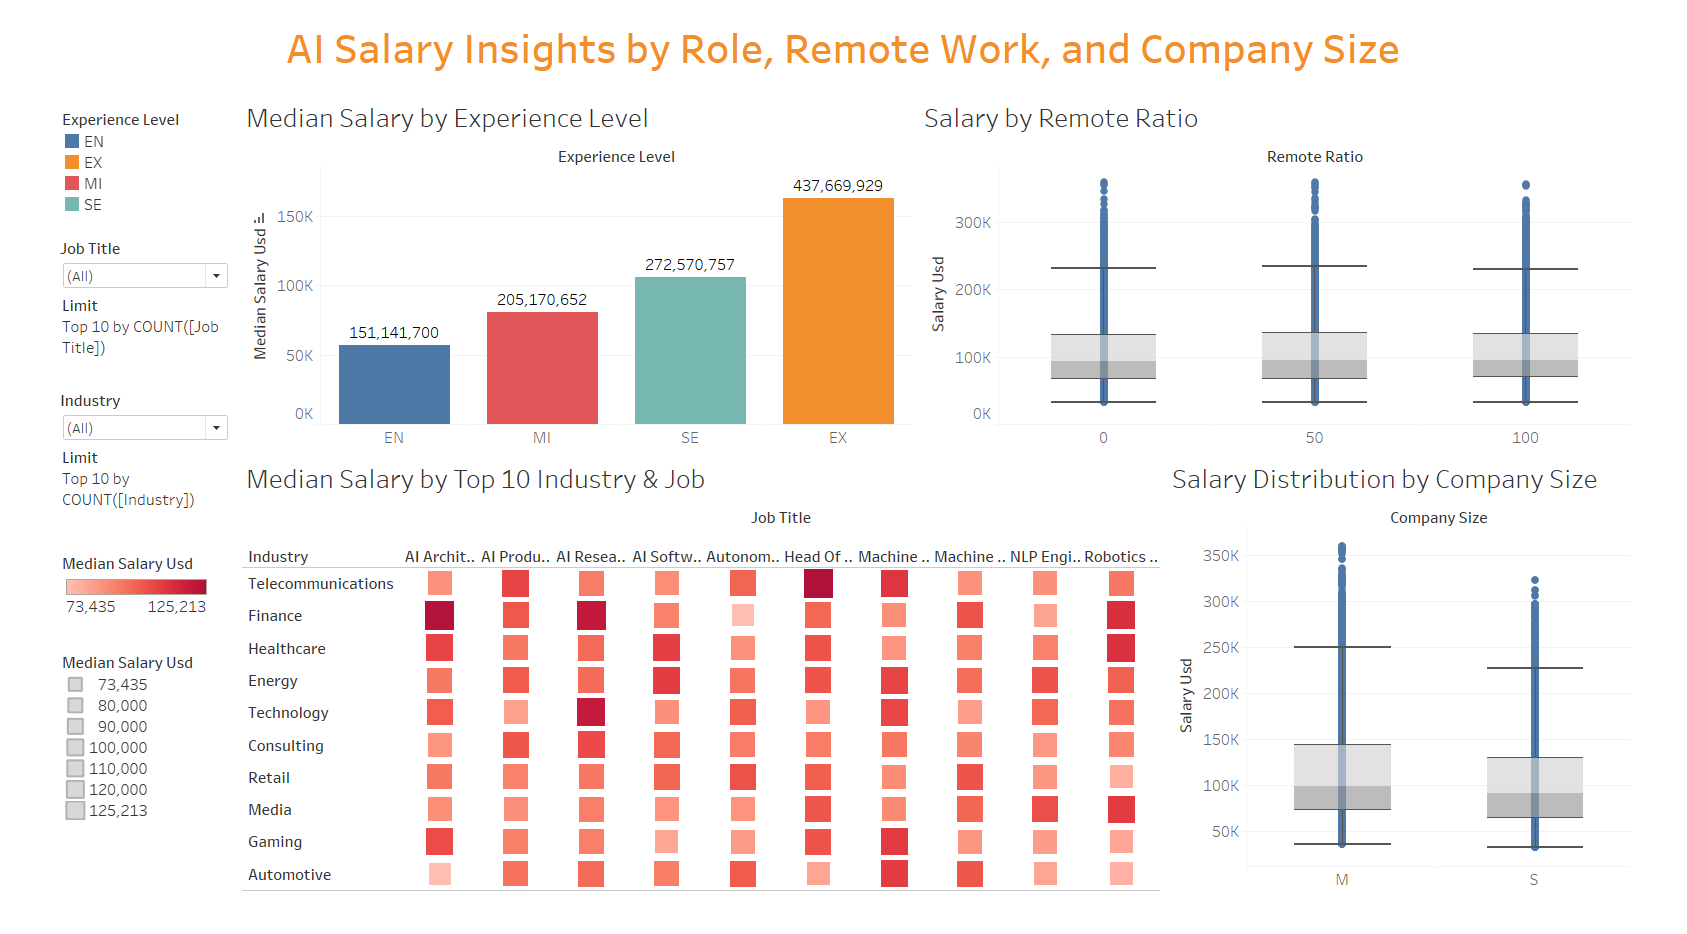

This screenshot's page, from the dashboard's own definition file:
{"tool":"tableau","page":{"name":"Dashboard 2","canvas":[1600,900],"ordinal":1},"visuals":[{"type":"text","box":[8,8,1584,71]},{"type":"worksheet","title":"Median Salary by Experience Level","mark":"Automatic","rows":["salary_usd"],"cols":["experience_level"],"box":[195,89,677.5,361]},{"type":"worksheet","title":"Salary by Remote Ratio","mark":"Circle","rows":["salary_usd"],"cols":["remote_ratio"],"box":[872.5,89,719.5,361]},{"type":"legend","title":"Median Salary by Experience Level","param":"[federated.1hjc3tu0h6lypg139vgvv0k21v48].[none:experience_level:nk]","box":[19.2,106,149.3,106]},{"type":"filter","title":"Median Salary by Top 10 Industry & Job","param":"[federated.1hjc3tu0h6lypg139vgvv0k21v48].[none:job_title:nk]","box":[17.1,235,170.7,124]},{"type":"filter","title":"Median Salary by Top 10 Industry & Job","param":"[federated.1hjc3tu0h6lypg139vgvv0k21v48].[none:industry:nk]","box":[17.1,387,170.7,124]},{"type":"worksheet","title":"Median Salary by Top 10 Industry & Job","mark":"Automatic","rows":["industry"],"cols":["job_title"],"box":[195,450,926,442]},{"type":"worksheet","title":"Salary Distribution by Company Size","mark":"Circle","rows":["salary_usd"],"cols":["company_size"],"box":[1121,450,471,442]},{"type":"legend","title":"Median Salary by Top 10 Industry & Job","param":"[federated.1hjc3tu0h6lypg139vgvv0k21v48].[med:salary_usd:qk]","box":[19.2,550,149.3,65]},{"type":"legend","title":"Median Salary by Top 10 Industry & Job","param":"[federated.1hjc3tu0h6lypg139vgvv0k21v48].[med:salary_usd:qk]","box":[19.2,649,149.3,169]}]}

Visuals, with their boxes in screenshot pixels (x1, y1, x2, y2), scaled from the page's 1600x900 canvas onto the 1687x934 screenshot:
text: detection(8, 8, 1679, 82)
"Median Salary by Experience Level" worksheet: detection(206, 92, 920, 467)
"Salary by Remote Ratio" worksheet (Circle marks): detection(920, 92, 1679, 467)
"Median Salary by Experience Level" legend: detection(20, 110, 178, 220)
"Median Salary by Top 10 Industry & Job" filter: detection(18, 244, 198, 373)
"Median Salary by Top 10 Industry & Job" filter: detection(18, 402, 198, 530)
"Median Salary by Top 10 Industry & Job" worksheet: detection(206, 467, 1182, 926)
"Salary Distribution by Company Size" worksheet (Circle marks): detection(1182, 467, 1679, 926)
"Median Salary by Top 10 Industry & Job" legend: detection(20, 571, 178, 638)
"Median Salary by Top 10 Industry & Job" legend: detection(20, 674, 178, 849)
